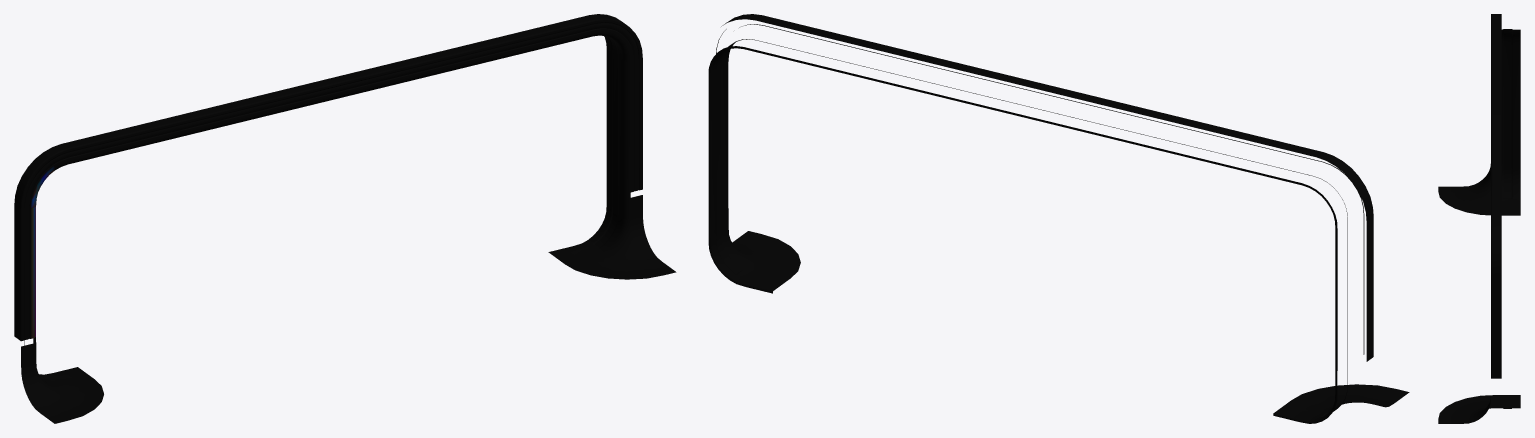
The model's file is Woods_Field_Goal_Posts.gltf.
3 renders of one model, left to right at view 1: azimuth 30°, elevation 25°; view 2: azimuth 150°, elevation 25°; view 3: azimuth 270°, elevation 25°, orthographic. The views are drawn at different scales.
Parts seen in each view (by area): view 1: Woods_Field_Goal_Posts; view 2: Woods_Field_Goal_Posts; view 3: Woods_Field_Goal_Posts.
Part boxes in pixels (bbox=[...]): Woods_Field_Goal_Posts: bbox=[14, 14, 676, 423]; Woods_Field_Goal_Posts: bbox=[708, 14, 1409, 423]; Woods_Field_Goal_Posts: bbox=[1438, 14, 1520, 423].
Bounding box in the file's own units: 18.93 × 7.01 × 2.78.
